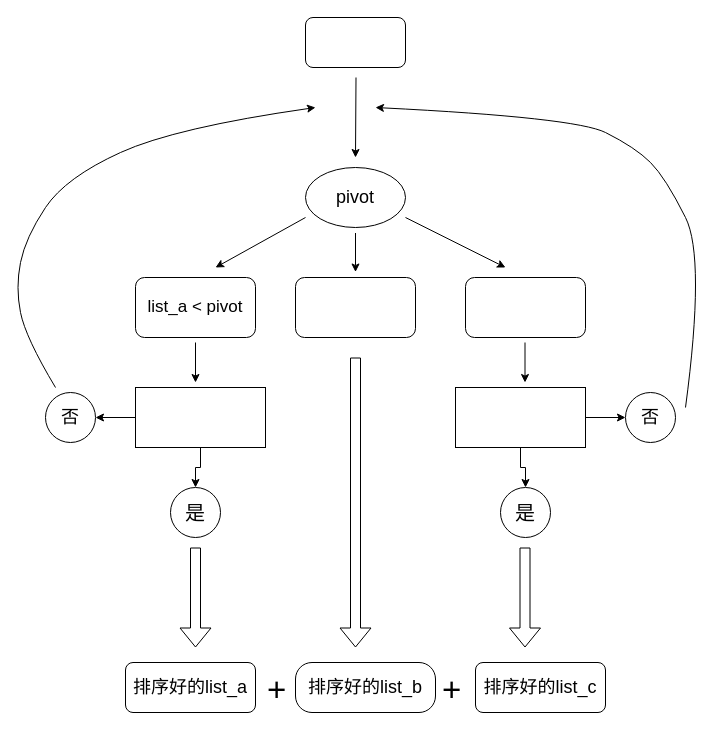
The diagram is 713 pixels wide and 730 high, and some of its shapes have lost their labels. Each missing label, with the centre of its shape:
Array: point (355, 42)
list_b = pivot: point (355, 307)
list_c > pivot: point (525, 307)
判斷len(list_a)<2: point (200, 417)
判斷len(list_c)<2: point (520, 417)
